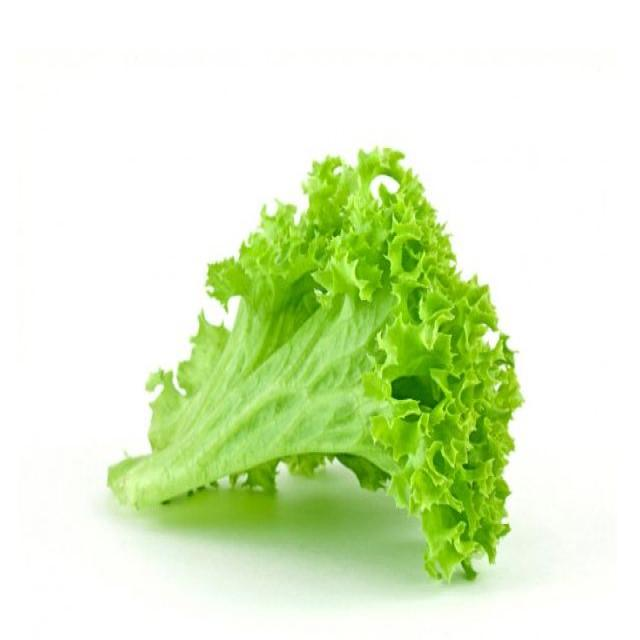lettuce: (108, 150, 520, 578)
